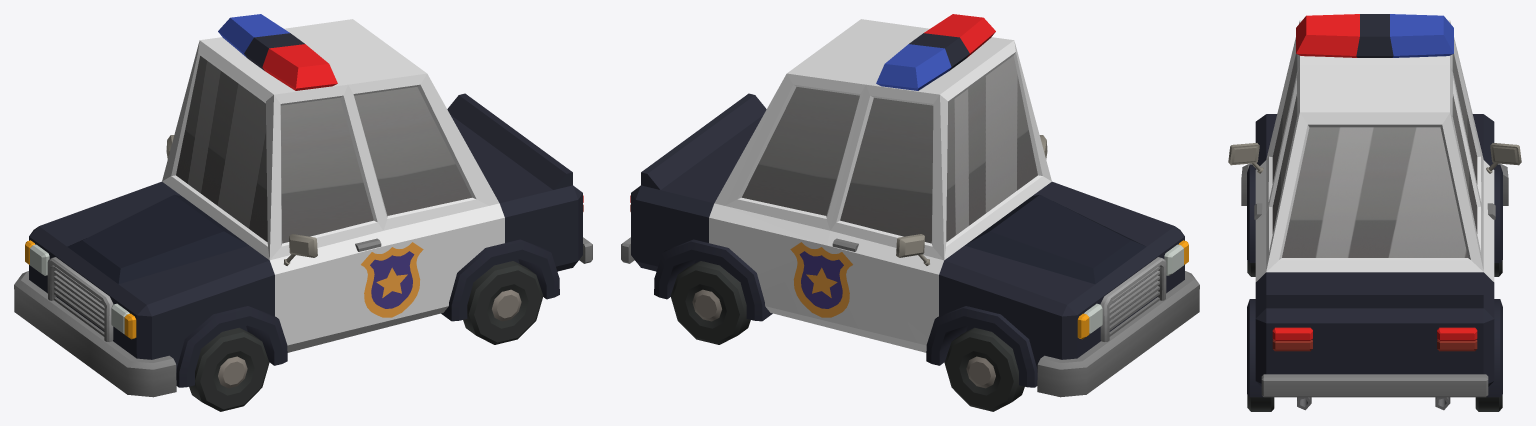
The model's file is Car_Police_3_1_A.fbx.
3 renders of one model, left to right at view 1: azimuth 30°, elevation 25°; view 2: azimuth 150°, elevation 25°; view 3: azimuth 270°, elevation 25°, orthographic.
Parts seen in each view (by area): view 1: Car_Police_3_1_A, RL, FL; view 2: Car_Police_3_1_A, RR, FR; view 3: Car_Police_3_1_A, RL, RR.
Part boxes in pixels (left/top/right/bottom): Car_Police_3_1_A: left=14, top=14, right=592, bottom=397; RL: left=463, top=261, right=543, bottom=344; FL: left=189, top=327, right=269, bottom=411; Car_Police_3_1_A: left=621, top=14, right=1199, bottom=397; RR: left=670, top=261, right=750, bottom=344; FR: left=944, top=327, right=1024, bottom=411; Car_Police_3_1_A: left=1228, top=14, right=1521, bottom=410; RL: left=1247, top=395, right=1274, bottom=411; RR: left=1475, top=395, right=1502, bottom=411.
Bounding box in the file's own units: 3.31 × 2.02 × 1.78.
